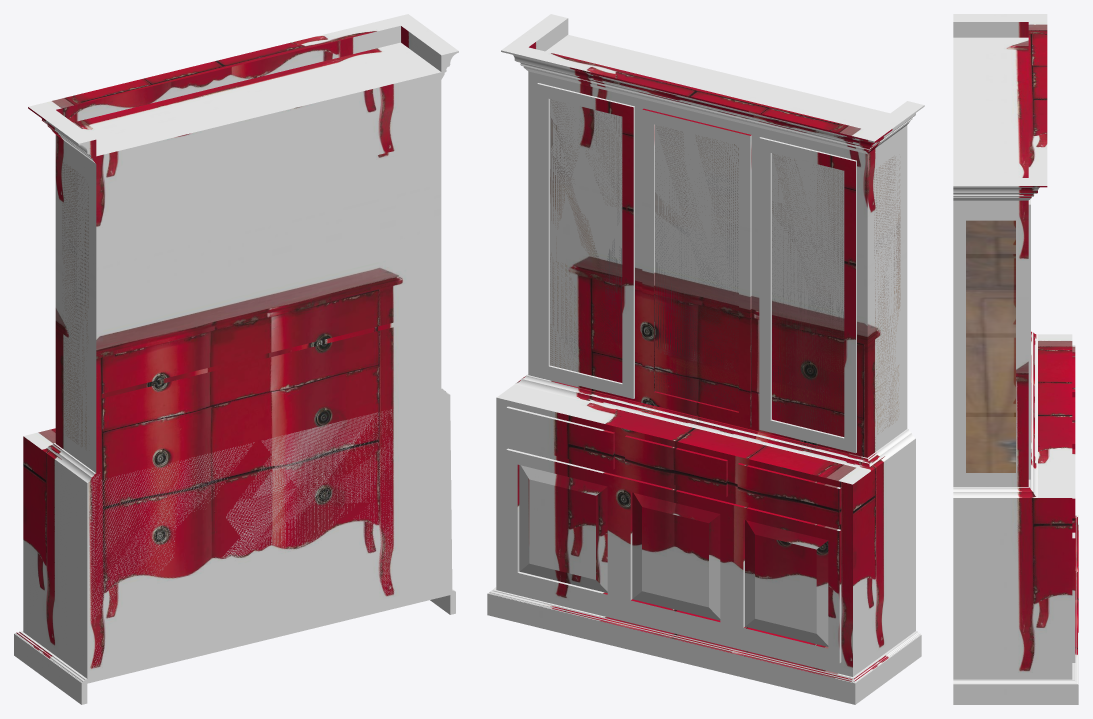
3 renders of one model, left to right at view 1: azimuth 30°, elevation 25°; view 2: azimuth 150°, elevation 25°; view 3: azimuth 270°, elevation 25°, orthographic. The views are drawn at different scales.
Parts seen in each view (by area): view 1: mesh5_mesh5-geometry; view 2: mesh5_mesh5-geometry, mesh6_mesh6-geometry, mesh7_mesh7-geometry, mesh3_mesh3-geometry, mesh1_mesh1-geometry; view 3: mesh5_mesh5-geometry, mesh1_mesh1-geometry.
Part boxes in pixels (<box>): mesh5_mesh5-geometry: <box>14,14,458,704</box>; mesh5_mesh5-geometry: <box>487,14,924,704</box>; mesh6_mesh6-geometry: <box>550,99,622,382</box>; mesh7_mesh7-geometry: <box>772,153,844,436</box>; mesh3_mesh3-geometry: <box>759,137,856,453</box>; mesh1_mesh1-geometry: <box>537,83,634,398</box>; mesh5_mesh5-geometry: <box>953,14,1078,704</box>; mesh1_mesh1-geometry: <box>1028,199,1030,479</box>.
Size of the model in its own units: 0.5691 by 0.8034 by 0.1751.
